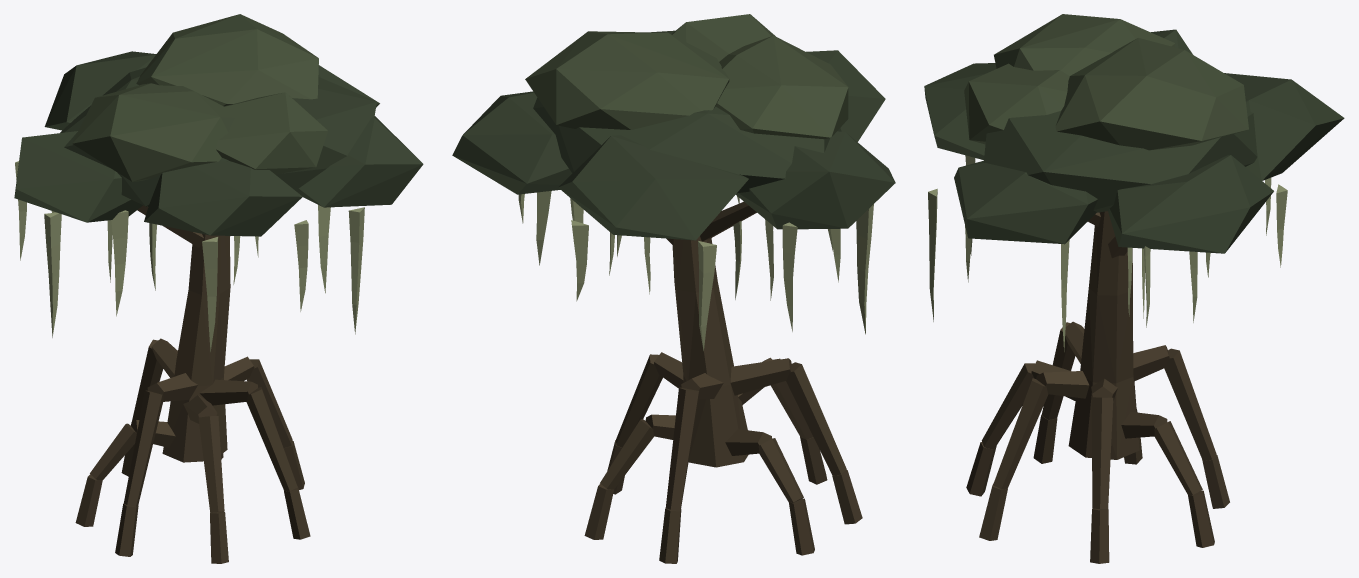
File: Swamp_Tree.fbx
3 views of the same model, side by side, from view 1: azimuth 30°, elevation 25°; view 2: azimuth 150°, elevation 25°; view 3: azimuth 270°, elevation 25° (orthographic). The views are drawn at different scales.
Parts seen in each view (by area): view 1: Leaves, Leaves2, Trunk, Moss; view 2: Leaves, Trunk, Leaves2, Moss; view 3: Leaves, Trunk, Leaves2, Moss.
Part boxes in pixels (x1,y1,x2,y2): Leaves: [14, 51, 423, 236]; Leaves2: [72, 14, 327, 181]; Trunk: [75, 205, 310, 563]; Moss: [15, 161, 364, 351]; Leaves: [452, 30, 895, 240]; Trunk: [584, 201, 862, 563]; Leaves2: [525, 14, 848, 139]; Moss: [518, 191, 873, 350]; Leaves: [924, 29, 1344, 253]; Trunk: [966, 211, 1229, 563]; Leaves2: [964, 14, 1248, 150]; Moss: [928, 155, 1287, 351].
Size of the model in its own units: 9.84 by 11.47 by 9.13.
